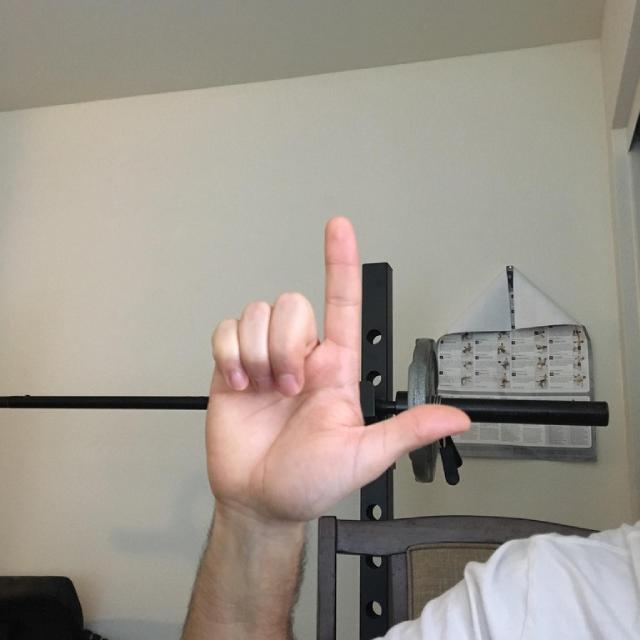L: (170, 160, 500, 567)
